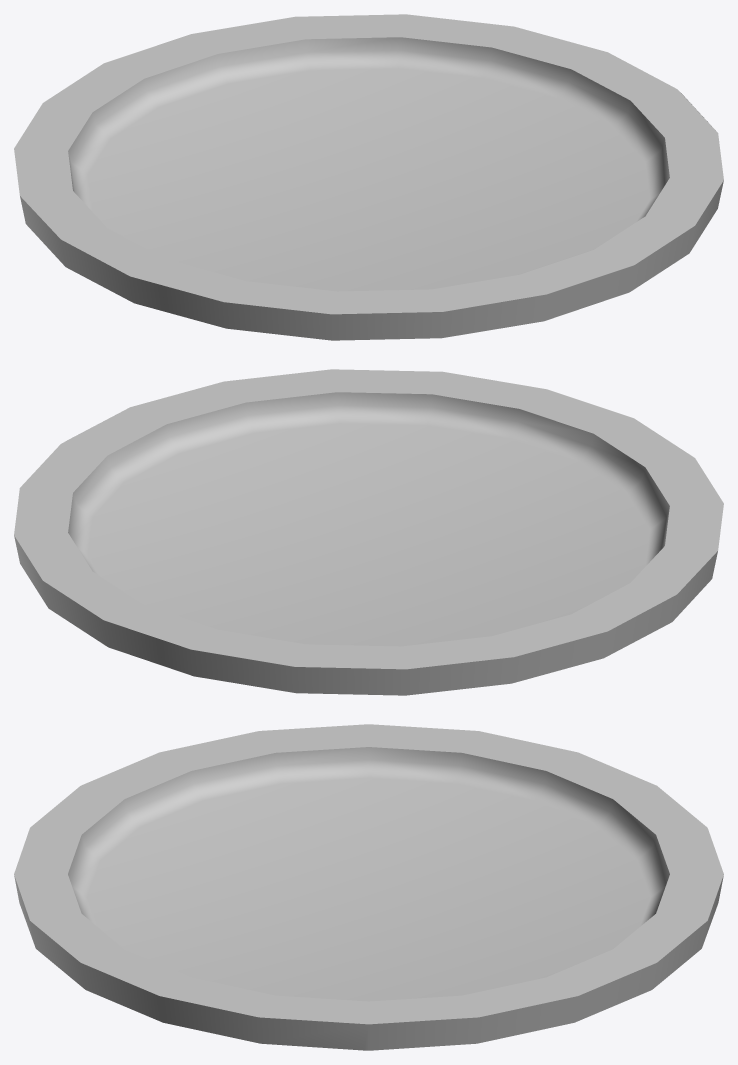
Rendered from Slide 1.fbx.
3 renders of one model, top to bottom at view 1: azimuth 30°, elevation 25°; view 2: azimuth 150°, elevation 25°; view 3: azimuth 270°, elevation 25°, orthographic.
Parts seen in each view (by area): view 1: Ashtray; view 2: Ashtray; view 3: Ashtray.
Boxes of the visible parts, x1,y1,x2,y2 form: Ashtray: (14,14,723,340); Ashtray: (14,369,723,695); Ashtray: (14,724,723,1050).
Size of the model in its own units: 1762 by 78.77 by 1761.
